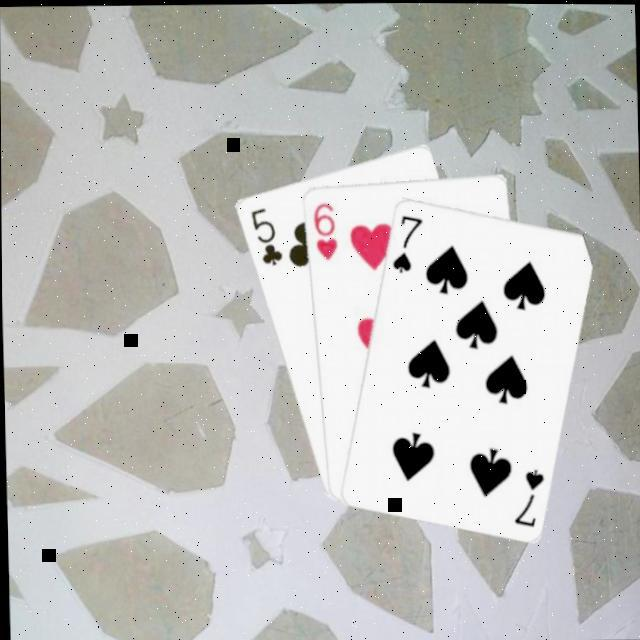5C: (248, 201, 286, 266)
6H: (310, 196, 342, 260)
7S: (388, 208, 427, 272), (510, 462, 548, 527)
